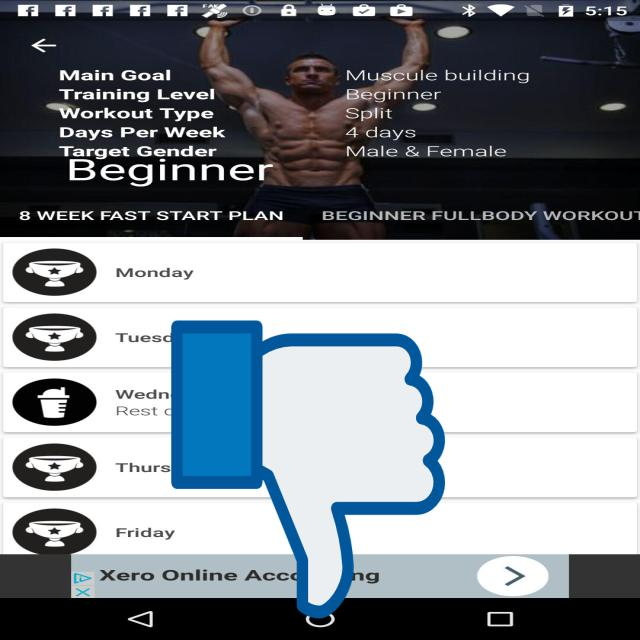obstruction: (171, 314, 445, 625)
